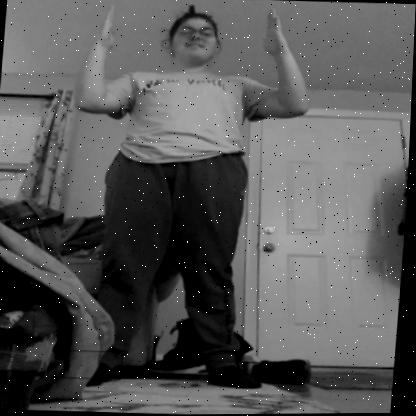person: (52, 0, 316, 394)
